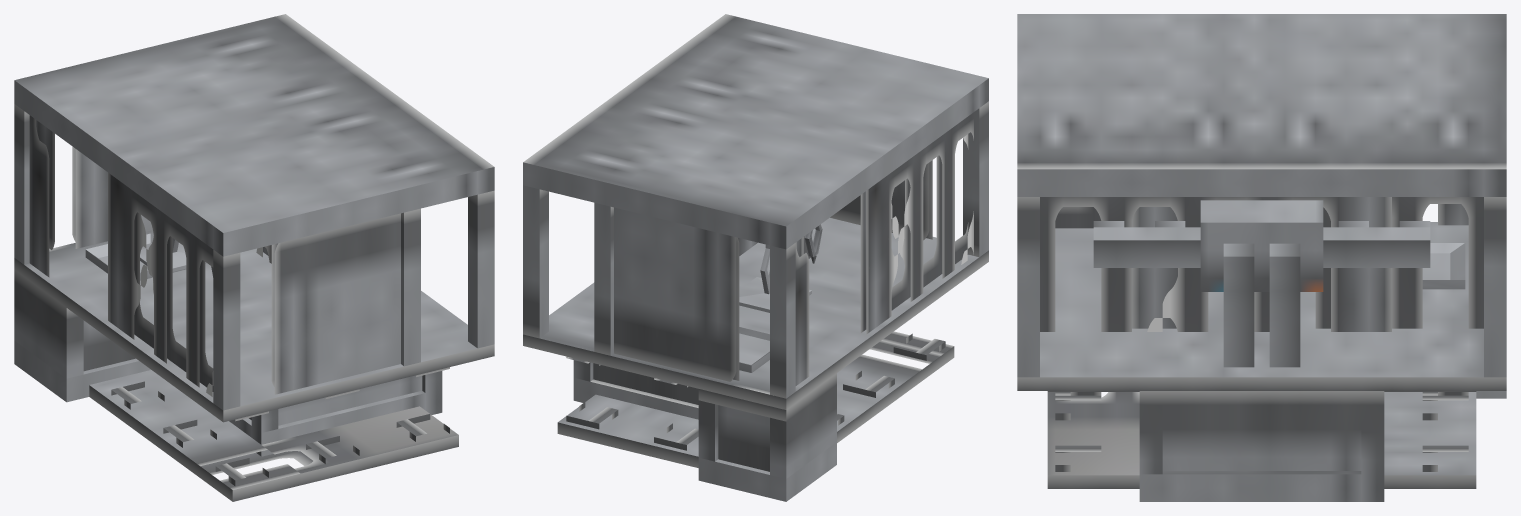
The model's file is precisionassembler.obj.
The picture shows the model from 3 angles, left to right: view 1: azimuth 30°, elevation 25°; view 2: azimuth 150°, elevation 25°; view 3: azimuth 270°, elevation 25°; orthographic projection. The views are drawn at different scales.
Visible parts, largest first — view 1: Hull, Tray, ProcessA; view 2: Hull, Tray, ProcessA; view 3: Hull, Tray.
Boxes of the visible parts, x1,y1,x2,y2 form: Hull: [14, 14, 494, 501]; Tray: [85, 233, 186, 280]; ProcessA: [140, 238, 207, 271]; Hull: [523, 14, 988, 501]; Tray: [739, 327, 769, 372]; ProcessA: [739, 244, 811, 312]; Hull: [1017, 14, 1506, 501]; Tray: [1422, 243, 1465, 289].
Bounding box in the file's own units: 3 × 3 × 4.
